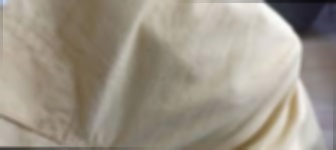oil: (174, 68, 230, 92)
